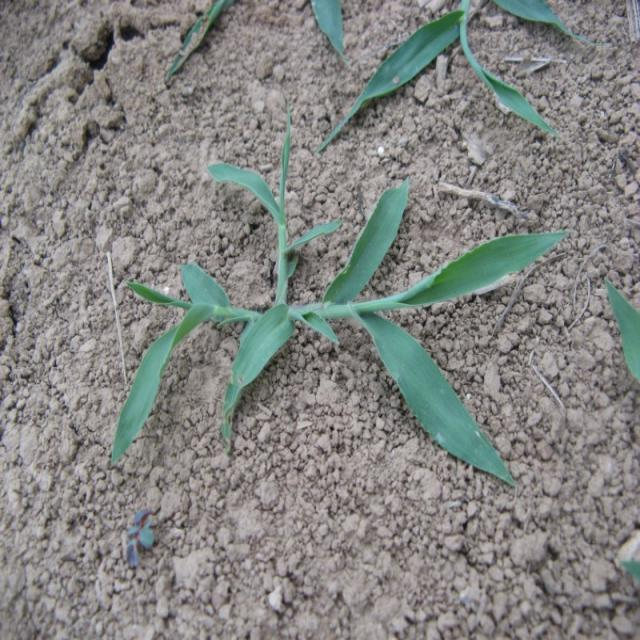bg: (115, 153, 569, 488)
